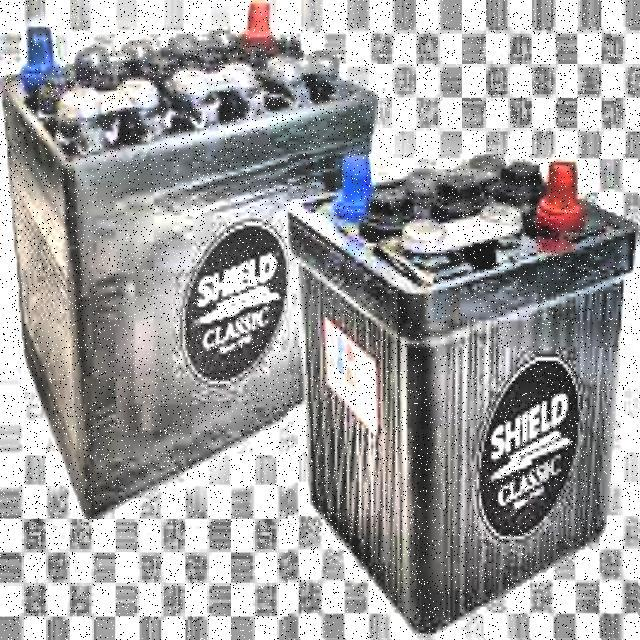B3: (14, 1, 634, 630)
